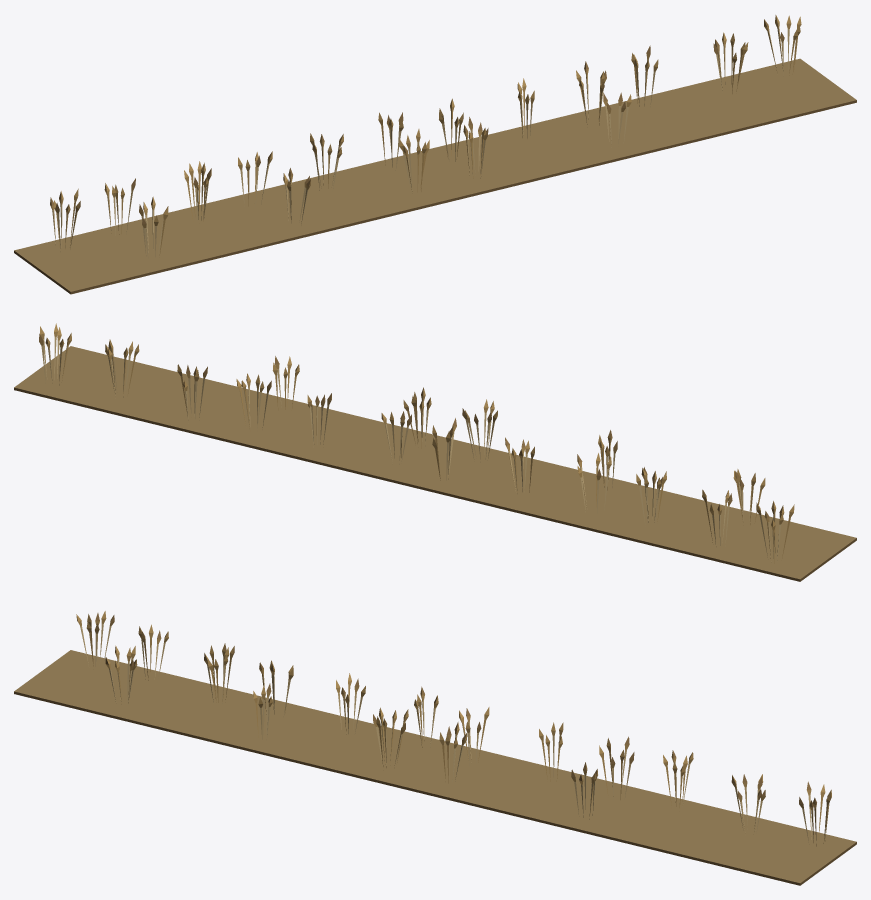
File: FMS_Mach_Demo_WheatEdge.fbx
3 renders of one model, top to bottom at view 1: azimuth 30°, elevation 25°; view 2: azimuth 150°, elevation 25°; view 3: azimuth 330°, elevation 25°, orthographic.
Visible parts, largest first — view 1: WheatEdge; view 2: WheatEdge; view 3: WheatEdge.
Part boxes in pixels (left/top/right/bottom): WheatEdge: left=14, top=15, right=856, bottom=294; WheatEdge: left=14, top=323, right=856, bottom=581; WheatEdge: left=14, top=611, right=856, bottom=885.
Size of the model in its own units: 16 by 1.17 by 2.
Materials: 1 (1 with a texture image).
